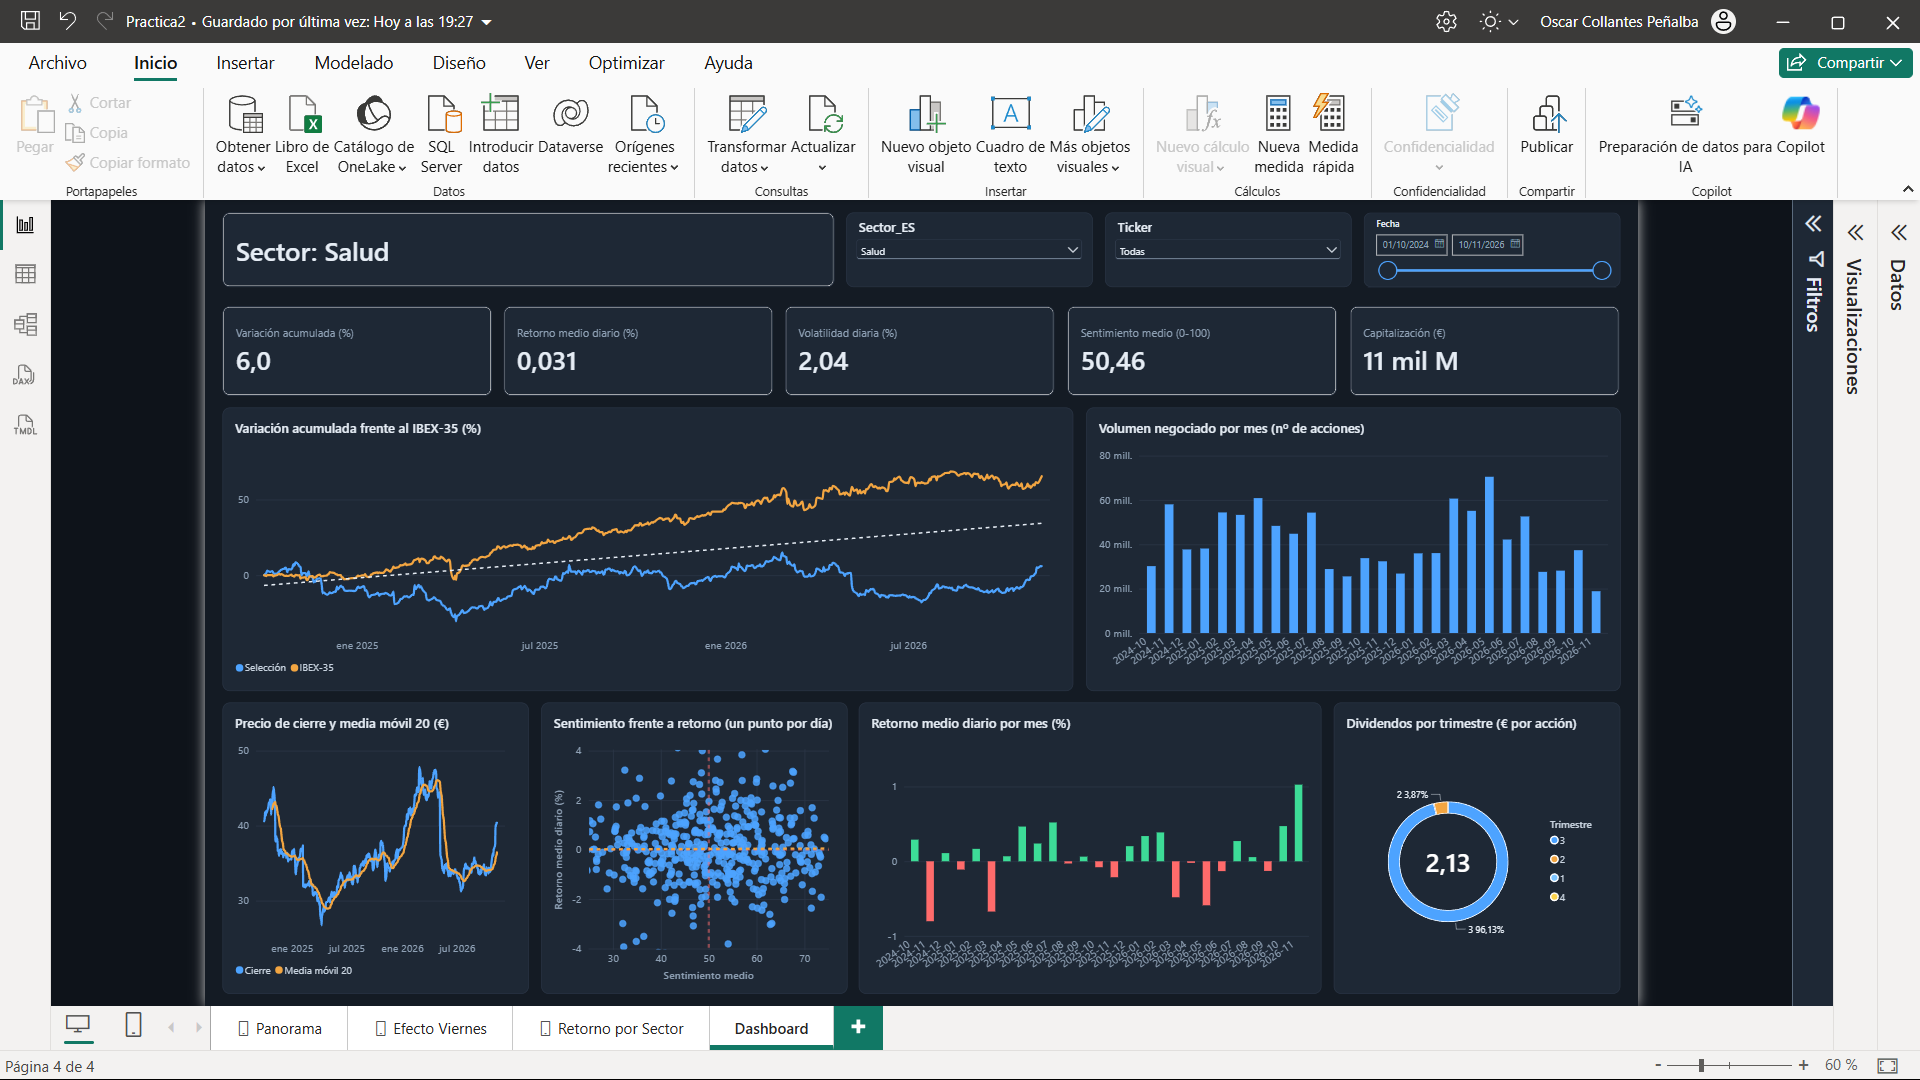

Layout of this report page (visuals, bound fields, positions):
{"tool":"powerbi","page":{"name":"Dashboard","canvas":[1920,1080],"ordinal":3},"visuals":[{"type":"slicer","fields":{"Values":["Empresa.Sector_ES"]},"box":[753.5,31.4,280.8,68],"z":0},{"type":"slicer","fields":{"Values":["Empresa.Ticker"]},"box":[1055.2,26.2,280.8,80.2],"z":1000},{"type":"slicer","fields":{"Values":["Fecha.Fecha"]},"box":[1360.5,19.2,280.8,95.9],"z":2000},{"type":"cardVisual","fields":{"Data":["Hechos.Variacion Acumulada"]},"box":[36.6,115.1,218,174.4],"z":3000},{"type":"cardVisual","fields":{"Data":["Hechos.Retorno Medio Diario"]},"box":[375,115.1,218,174.4],"z":4000},{"type":"cardVisual","fields":{"Data":["Hechos.Volatilidad Diaria"]},"box":[741.3,115.1,218,174.4],"z":5000},{"type":"cardVisual","fields":{"Data":["Hechos.Sentimiento Medio"]},"box":[1088.4,115.1,218,174.4],"z":6000},{"type":"cardVisual","fields":{"Data":["Hechos.Capitalizacion Total"]},"box":[1447.7,115.1,218,174.4],"z":7000},{"type":"lineChart","fields":{"Category":["Fecha.Fecha"],"Y":["Hechos.Var Acum Seleccion","Hechos.Var Acum IBEX"]},"box":[43.6,314,1058.7,376.7],"z":8000},{"type":"clusteredColumnChart","fields":{"Category":["Fecha.AnioMes"],"Y":["Sum(Hechos.Volume)"]},"box":[1133.7,314,736,376.7],"z":9000},{"type":"lineChart","fields":{"Category":["Fecha.Fecha"],"Y":["Avg(Hechos.Close)","Avg(Hechos.Media_Movil_20)"]},"box":[66.3,711.6,395.9,322.7],"z":10000},{"type":"scatterChart","fields":{"Category":["Fecha.Fecha"],"X":["Hechos.Sentimiento Medio"],"Y":["Hechos.Retorno Medio Diario"]},"box":[462.2,711.6,444.8,322.7],"z":11000},{"type":"clusteredColumnChart","fields":{"Category":["Fecha.AnioMes"],"Y":["Hechos.Retorno Medio Diario"]},"box":[907,711.6,610.5,322.7],"z":12000},{"type":"donutChart","fields":{"Category":["Fecha.Trimestre"],"Y":["Sum(Hechos.Dividends)"]},"box":[1517.4,711.6,385.5,322.7],"z":13000},{"type":"cardVisual","fields":{"Data":["Hechos.Titulo Dashboard"]},"box":[66.3,19.2,556.4,75],"z":13001}]}

Visuals, with their boxes on the page's 1920x1080 design canvas (x1, y1, x2, y2). These are canvas units, not pixel positions in the 1920x1080 screenshot, which may show the page scaled, cropped or inside an application window:
slicer - Empresa.Sector_ES: [x1=754, y1=31, x2=1034, y2=99]
slicer - Empresa.Ticker: [x1=1055, y1=26, x2=1336, y2=106]
slicer - Fecha.Fecha: [x1=1360, y1=19, x2=1641, y2=115]
cardVisual - Hechos.Variacion Acumulada: [x1=37, y1=115, x2=255, y2=290]
cardVisual - Hechos.Retorno Medio Diario: [x1=375, y1=115, x2=593, y2=290]
cardVisual - Hechos.Volatilidad Diaria: [x1=741, y1=115, x2=959, y2=290]
cardVisual - Hechos.Sentimiento Medio: [x1=1088, y1=115, x2=1306, y2=290]
cardVisual - Hechos.Capitalizacion Total: [x1=1448, y1=115, x2=1666, y2=290]
lineChart - Fecha.Fecha x Hechos.Var Acum Seleccion: [x1=44, y1=314, x2=1102, y2=691]
clusteredColumnChart - Fecha.AnioMes x Sum(Hechos.Volume): [x1=1134, y1=314, x2=1870, y2=691]
lineChart - Fecha.Fecha x Avg(Hechos.Close): [x1=66, y1=712, x2=462, y2=1034]
scatterChart - Fecha.Fecha x Hechos.Sentimiento Medio: [x1=462, y1=712, x2=907, y2=1034]
clusteredColumnChart - Fecha.AnioMes x Hechos.Retorno Medio Diario: [x1=907, y1=712, x2=1518, y2=1034]
donutChart - Fecha.Trimestre x Sum(Hechos.Dividends): [x1=1517, y1=712, x2=1903, y2=1034]
cardVisual - Hechos.Titulo Dashboard: [x1=66, y1=19, x2=623, y2=94]
